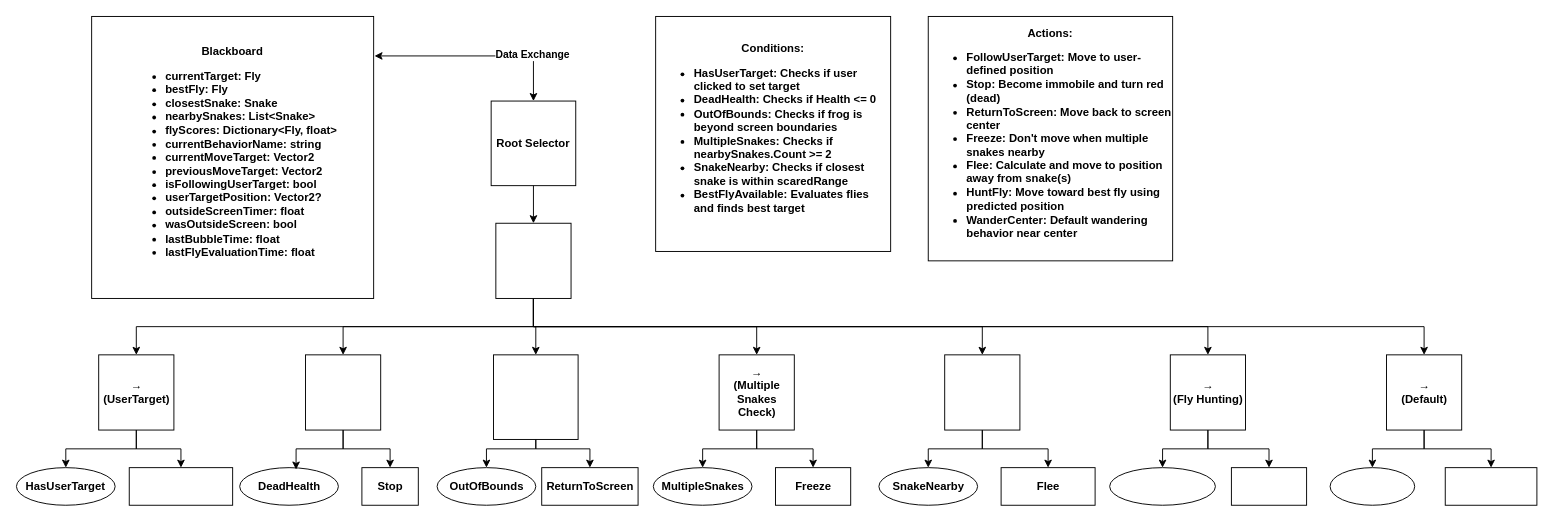
Some shapes in this 1554 by 522 pixel diagram are drawn without their labels. Here are the shapes that lost their labels. From the top down, the centre of each, then its label:
At point 533,260: "? (Fallback)".
At point 343,392: "→ (Health Check)".
At point 535,396: "→ (ScreenBound)".
At point 982,392: "→ (Single Snake Check)".
At point 180,486: "FollowUserTarget".
At point 1162,486: "BestFlyAvailable".
At point 1268,486: "HuntFly".
At point 1372,486: "AlwaysTrue".
At point 1490,486: "WanderCenter".
